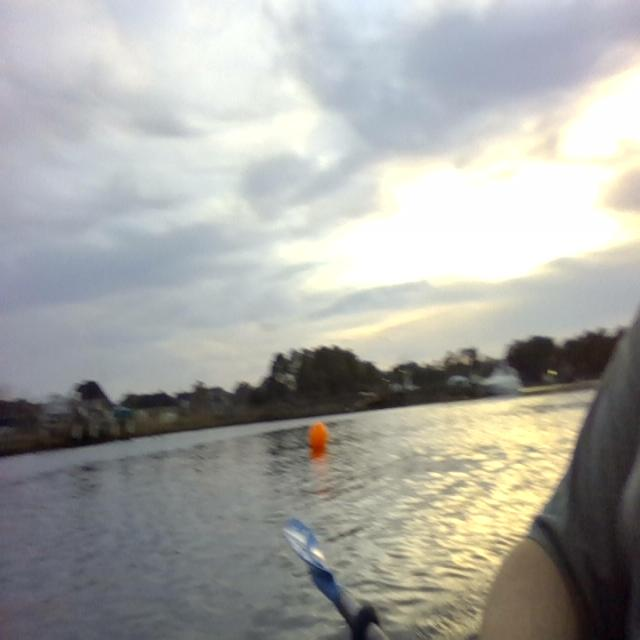Buoy: (304, 417, 334, 456)
